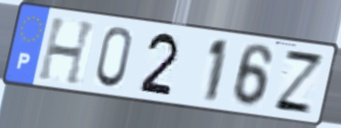0: (94, 26, 134, 90)
1: (203, 38, 232, 104)
2: (138, 31, 181, 99)
6: (230, 42, 276, 111)
H: (35, 16, 100, 88)
Z: (270, 48, 328, 118)
